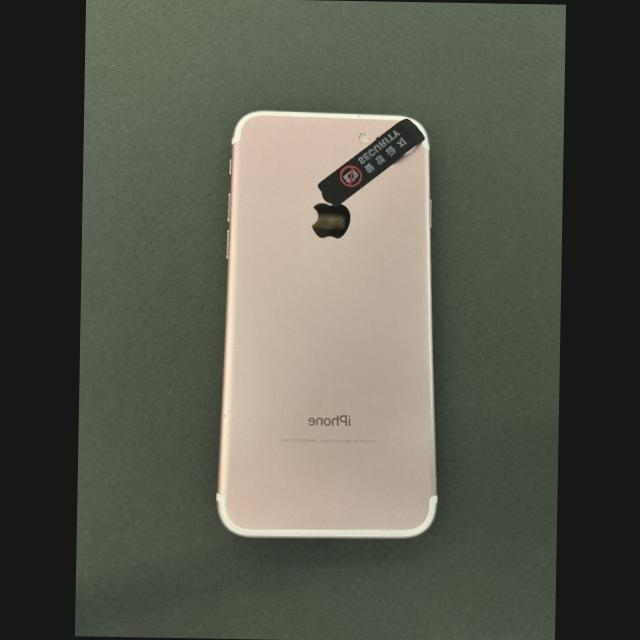phone: (216, 111, 437, 538)
sticker: (318, 119, 424, 206)
